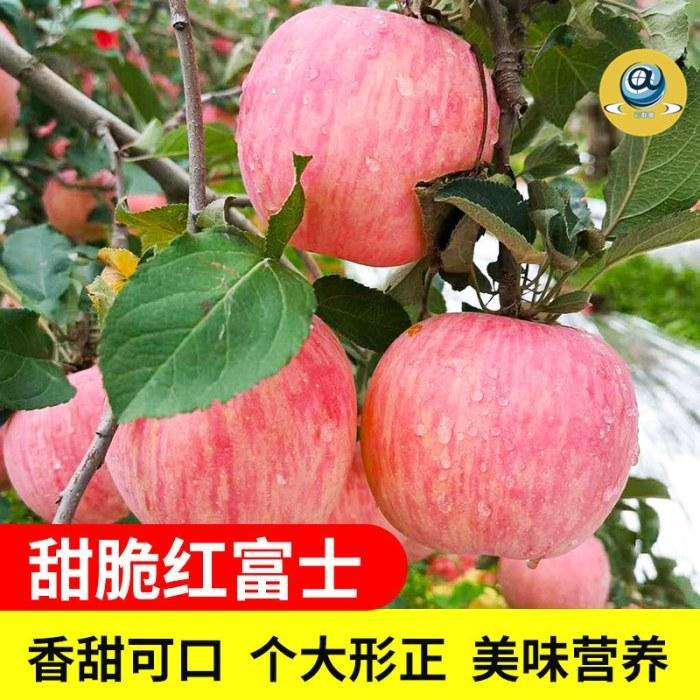apple: (231, 5, 510, 287), (364, 313, 644, 562), (100, 304, 355, 525), (40, 167, 117, 247)
